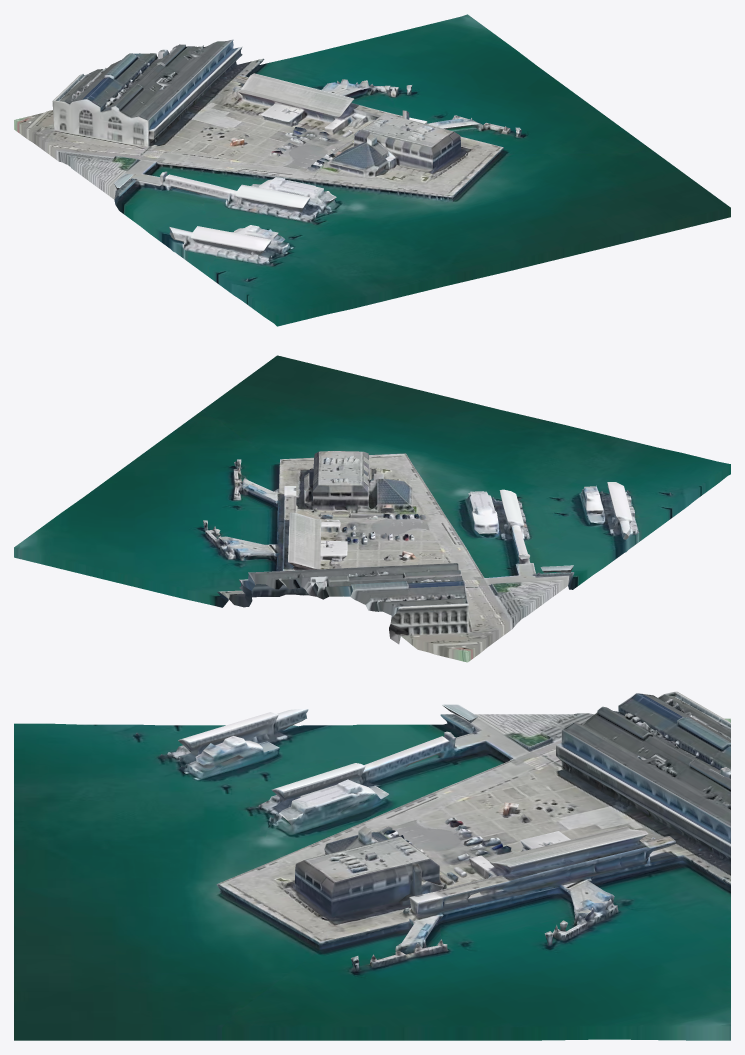
The model's file is z17-20974-50652-h0-yup-uvflip-v3-world.glb.
The picture shows the model from 3 angles, top to bottom: view 1: azimuth 30°, elevation 25°; view 2: azimuth 150°, elevation 25°; view 3: azimuth 270°, elevation 25°; orthographic projection. The views are drawn at different scales.
Bounding box in the file's own units: 241 × 27.52 × 243.
Materials: 1 (1 with a texture image).
